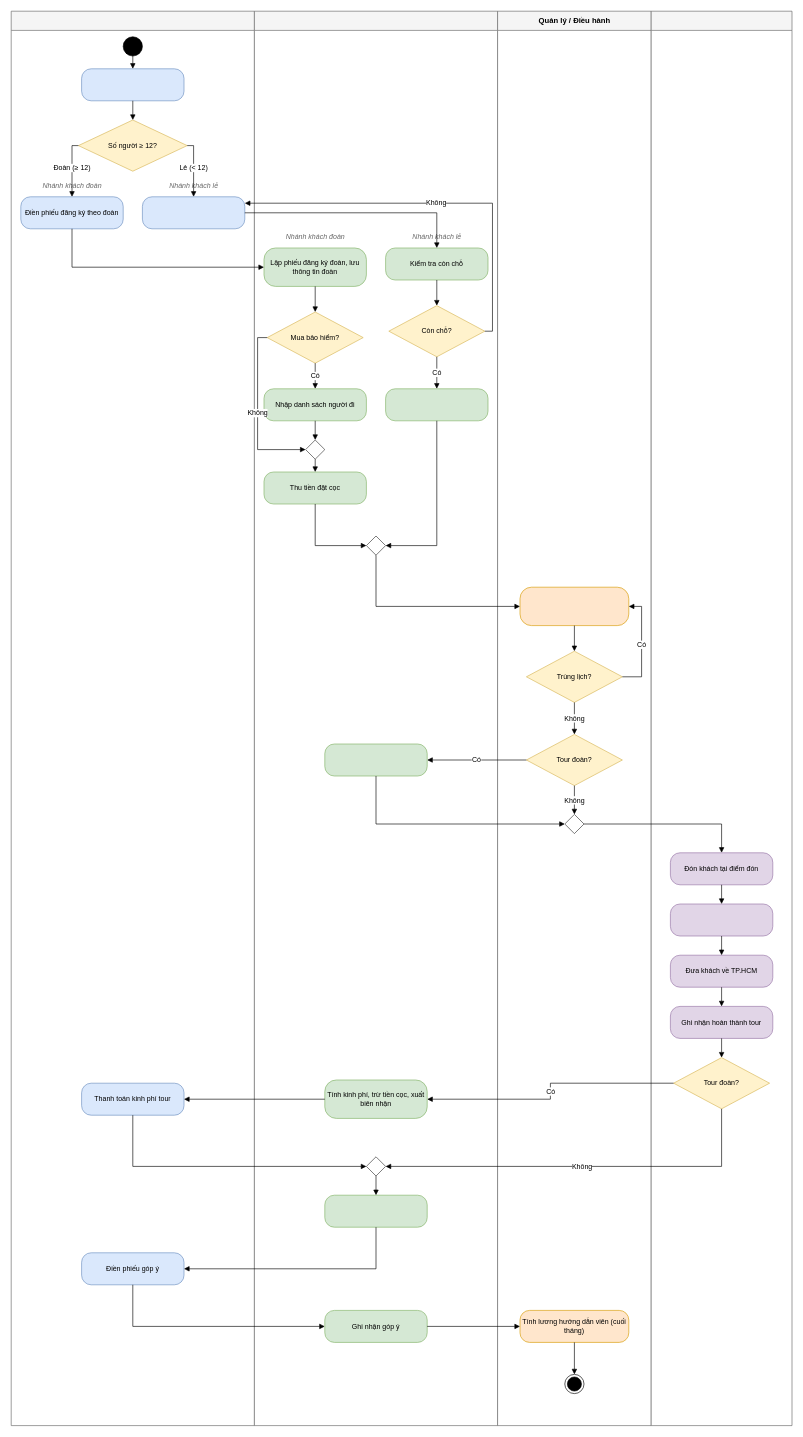
This 803x1437 diagram has some shape labels left out. The shapes that lost their labels are listed below. From the top down, each one's box as (x1, y1, x2, y2) in pixels, then its label:
(81, 68, 184, 101): Chọn tour muốn đi
(142, 196, 245, 229): Chọn chuyến và điểm đón
(385, 388, 488, 421): Thu tiền vé và xuất vé
(519, 587, 629, 626): Phân công hướng dẫn viên (đoàn đông: nhiều HDV)
(11, 11, 254, 1426): Khách hàng (khách đoàn / khách lẻ)
(254, 11, 498, 1426): Nhân viên tiếp nhận / bán vé
(651, 11, 792, 1426): Nhân viên hướng dẫn
(324, 743, 427, 776): Sắp xếp xe đón khách đoàn
(670, 903, 773, 936): Hướng dẫn tham quan
(324, 1195, 427, 1227): Gửi phiếu khảo sát
